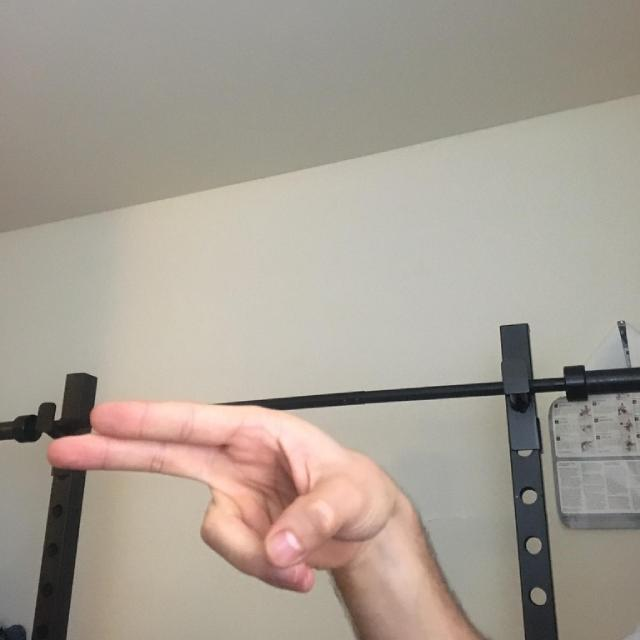H: (36, 318, 491, 640)
